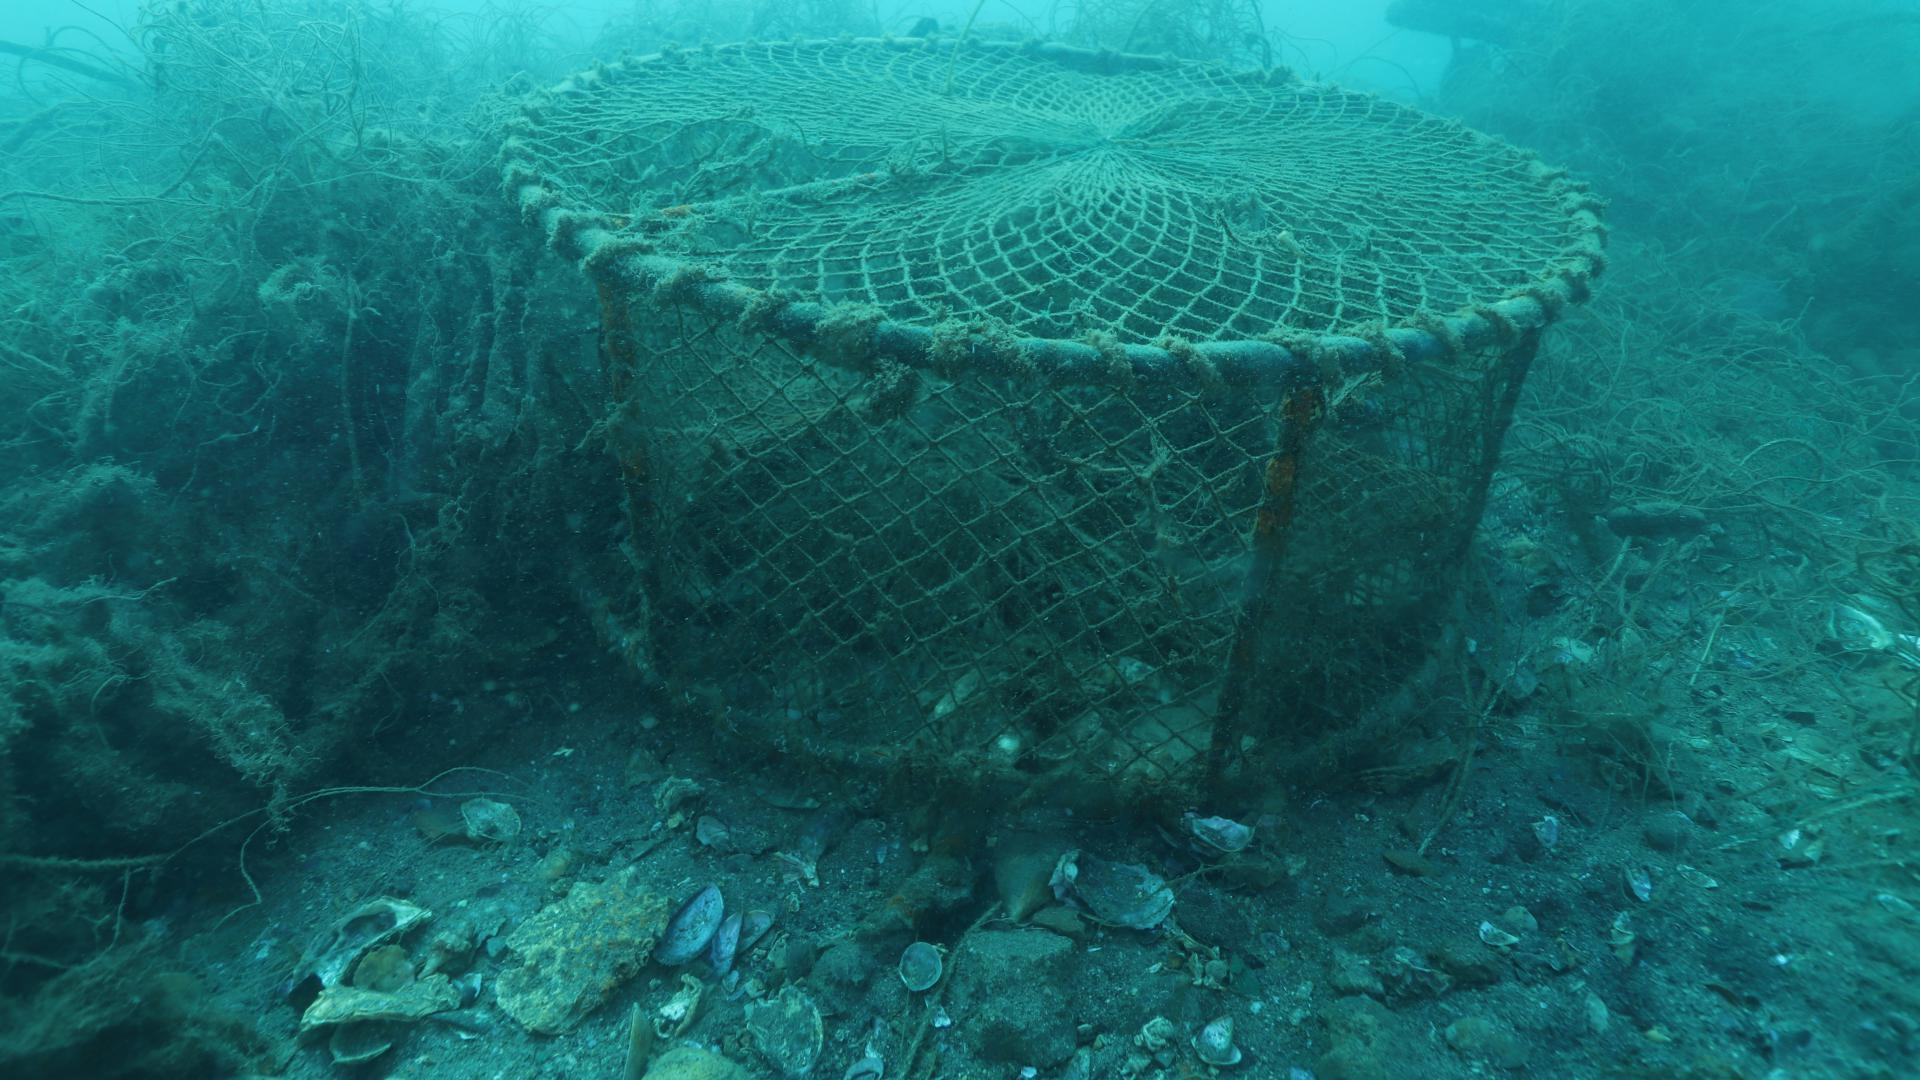circular fish trap: (483, 33, 1604, 798)
